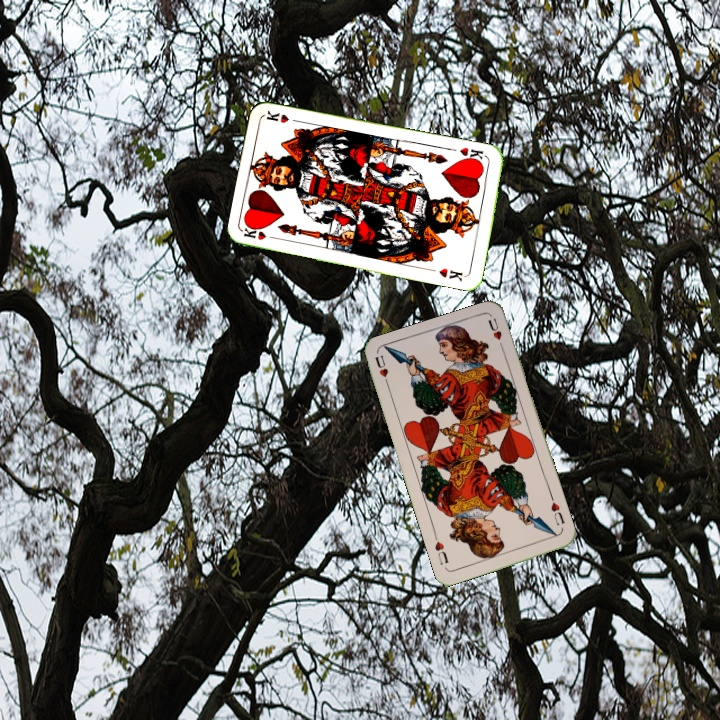HK: (241, 224, 282, 243), (455, 143, 486, 166)
HU: (371, 351, 392, 391), (547, 498, 567, 528)
